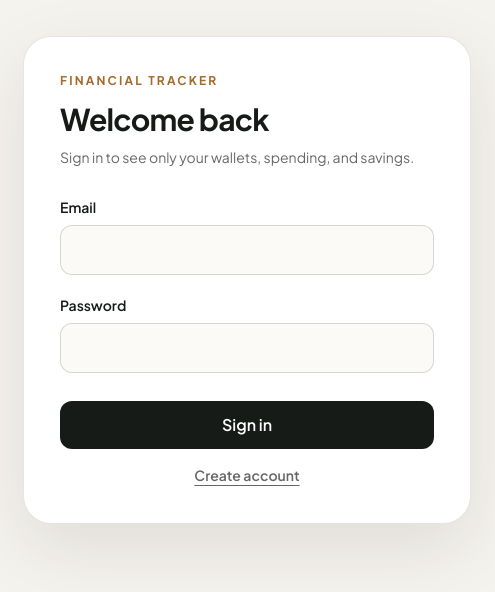
Test: AuthScreen › explains that a new user must confirm their email before signing in
Click the button "Create account" at x=247, y=475, box [60, 465, 434, 485]
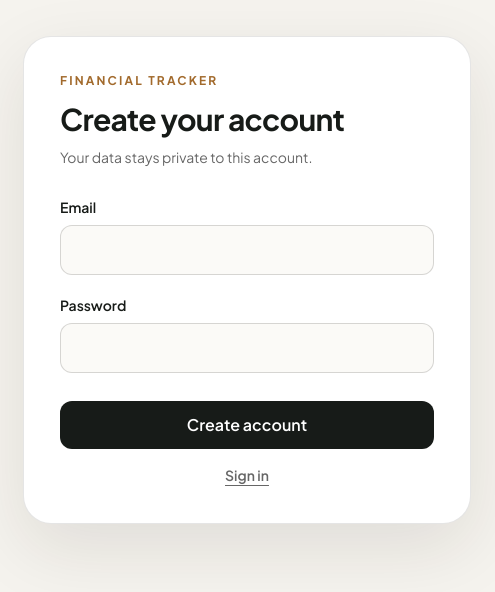
Type "new@example.com" into the field labelled "Email" at x=247, y=250, box [60, 225, 434, 275]
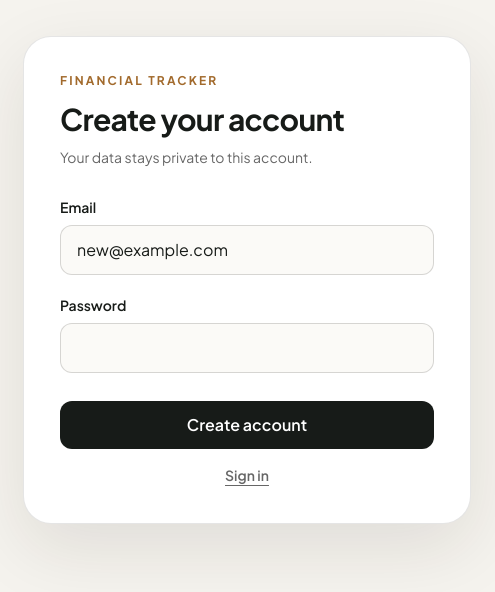
Type "safe-password" into the password field labelled "Password" at x=247, y=348, box [60, 323, 434, 373]
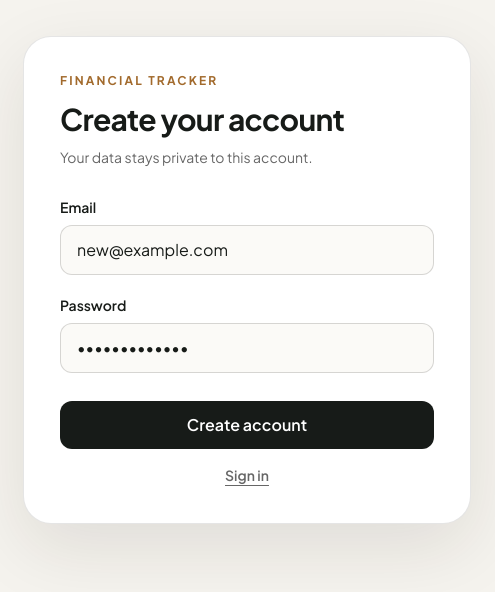
Click the button "Create account" at x=247, y=425, box [60, 401, 434, 449]
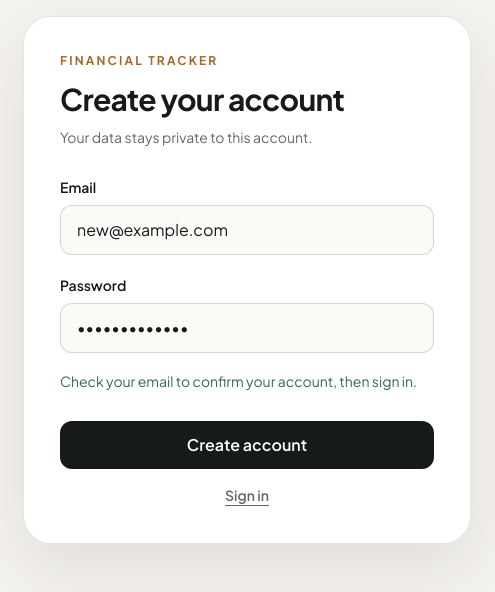
Check: the text "Check your email to confirm your account, then sign in." is shown, box [60, 369, 434, 393]
